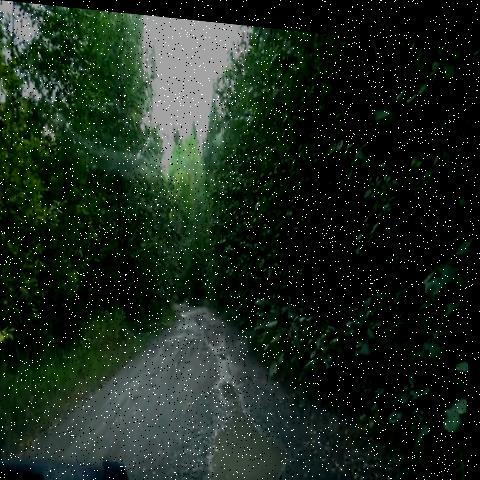pothole: (191, 364, 309, 480), (167, 314, 196, 348), (216, 334, 238, 363), (179, 302, 195, 322), (201, 300, 216, 320)
